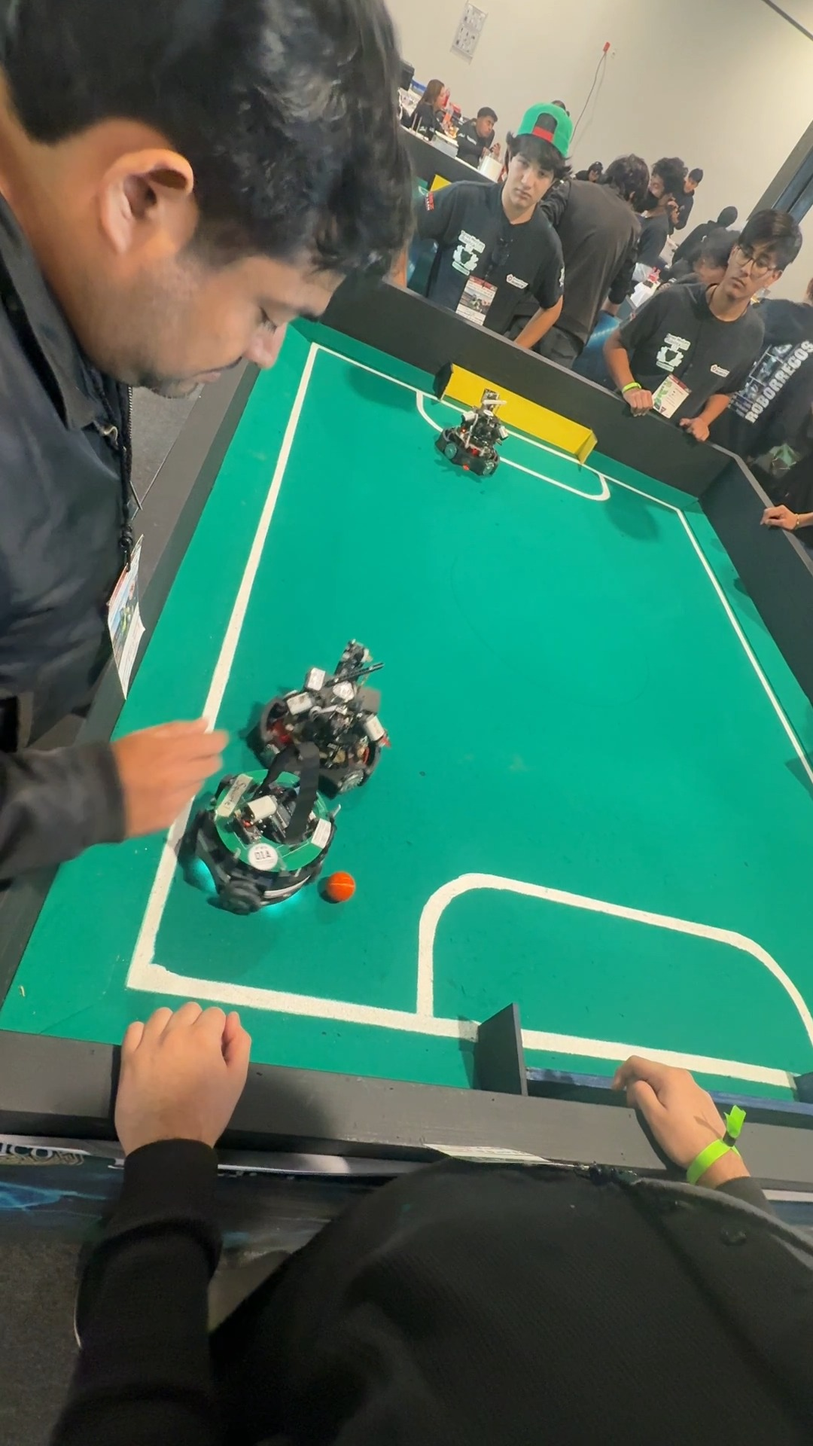Robot: (0, 485, 109, 804), (193, 741, 333, 924), (250, 629, 397, 803), (439, 378, 507, 479)
pelota: (328, 869, 357, 906)
